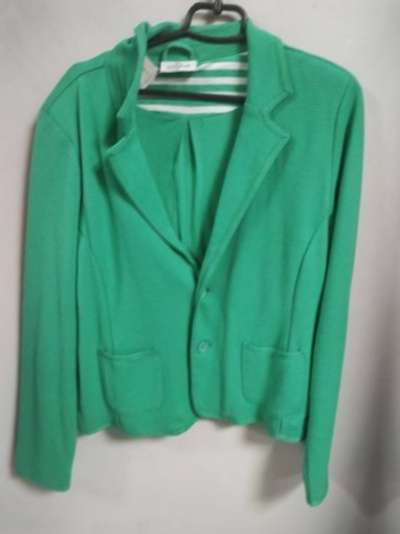Blazer: (0, 9, 395, 529), (392, 48, 400, 534)
